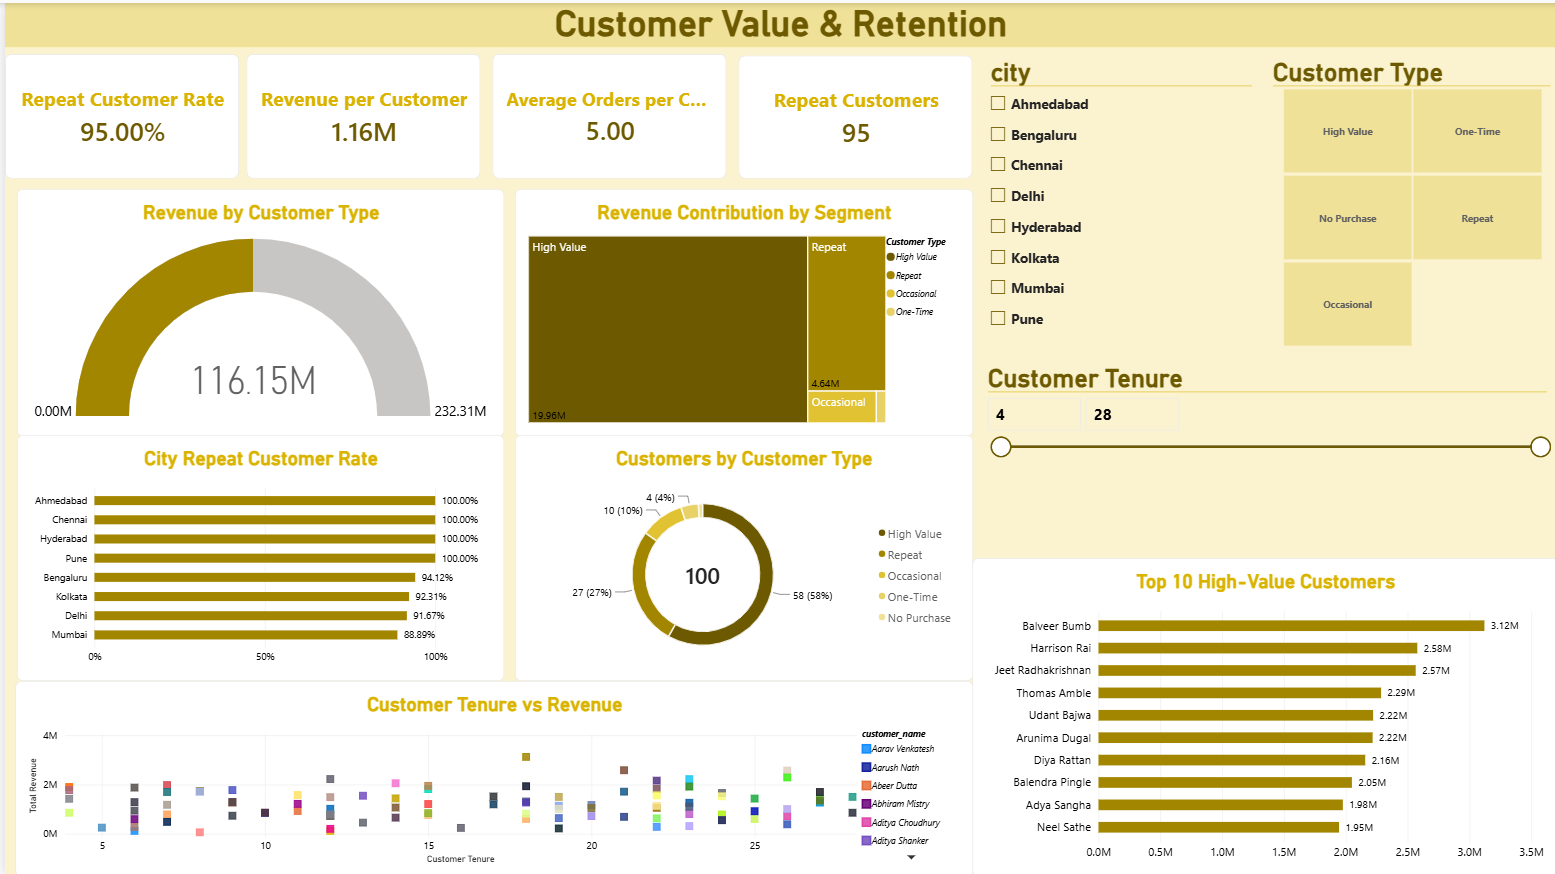

This screenshot's page, from the dashboard's own definition file:
{"tool":"powerbi","page":{"name":"Customer Value & Retention","canvas":[1920,1080],"ordinal":4},"visuals":[{"type":"cardVisual","fields":{"Data":["customers.Repeat Customer Rate"]},"box":[0,62.9,289.9,154.1],"z":0},{"type":"cardVisual","fields":{"Data":["customers.Revenue per Customer"]},"box":[298.1,62.9,289.9,154.1],"z":1000},{"type":"cardVisual","fields":{"Data":["customers.Average Orders per Customer"]},"box":[602.2,62.9,289.9,154.1],"z":2000},{"type":"cardVisual","fields":{"Data":["customers.Repeat Customers"]},"box":[906.3,64.9,289.9,152.1],"z":3000},{"type":"gauge","title":"Revenue by Customer Type","fields":{"Y":["customers.Customer Type Revenue"]},"box":[14.2,229.1,602.2,306.2],"z":4000},{"type":"barChart","title":"Top 10 High-Value Customers","fields":{"Category":["customers.customer_name"],"Y":["order_items.Total Revenue"]},"box":[1196.3,685.3,723.8,395.4],"z":5000},{"type":"treemap","title":"Revenue Contribution by Segment","fields":{"Group":["customers.Customer Type"],"Values":["order_items.Total Revenue"]},"box":[630.6,229.1,565.7,306.2],"z":6000},{"type":"donutChart","title":"Customers by Customer Type","fields":{"Category":["customers.Customer Type"],"Y":["customers.Total Customers"]},"box":[630.6,533.3,565.7,304.1],"z":7000},{"type":"barChart","title":"City Repeat Customer Rate","fields":{"Category":["customers.city"],"Y":["customers.Repeat Customer Rate"]},"box":[14.2,533.3,602.2,304.1],"z":8000},{"type":"scatterChart","title":"Customer Tenure vs Revenue","fields":{"Series":["customers.customer_name"],"X":["customers.Customer Tenure"],"Y":["order_items.Total Revenue"]},"box":[13.6,838.1,1183.4,243],"z":9000},{"type":"textbox","title":"Customer Value & Retention","box":[0,0,1918.1,54.7],"z":10000},{"type":"slicer","fields":{"Values":["customers.city"]},"box":[1210.6,65.9,338.4,358.9],"z":11001},{"type":"slicer","fields":{"Values":["customers.Customer Tenure"]},"box":[1206.1,445.2,706.4,240.8],"z":11002},{"type":"slicer","fields":{"Values":["customers.Customer Type"]},"box":[1558.1,65.9,358.9,358.9],"z":11004}]}

Visuals, with their boxes in screenshot pixels (x1, y1, x2, y2), scaled from the page's 1920x1080 canvas onto the 1555x874 screenshot:
cardVisual - customers.Repeat Customer Rate: bbox=(0, 51, 235, 176)
cardVisual - customers.Revenue per Customer: bbox=(241, 51, 476, 176)
cardVisual - customers.Average Orders per Customer: bbox=(488, 51, 723, 176)
cardVisual - customers.Repeat Customers: bbox=(734, 53, 969, 176)
"Revenue by Customer Type" gauge: bbox=(12, 185, 499, 433)
"Top 10 High-Value Customers" barChart: bbox=(969, 555, 1554, 873)
"Revenue Contribution by Segment" treemap: bbox=(511, 185, 969, 433)
"Customers by Customer Type" donutChart: bbox=(511, 432, 969, 678)
"City Repeat Customer Rate" barChart: bbox=(12, 432, 499, 678)
"Customer Tenure vs Revenue" scatterChart: bbox=(11, 678, 969, 873)
"Customer Value & Retention" textbox: bbox=(0, 0, 1553, 44)
slicer - customers.city: bbox=(980, 53, 1255, 344)
slicer - customers.Customer Tenure: bbox=(977, 360, 1549, 555)
slicer - customers.Customer Type: bbox=(1262, 53, 1553, 344)
